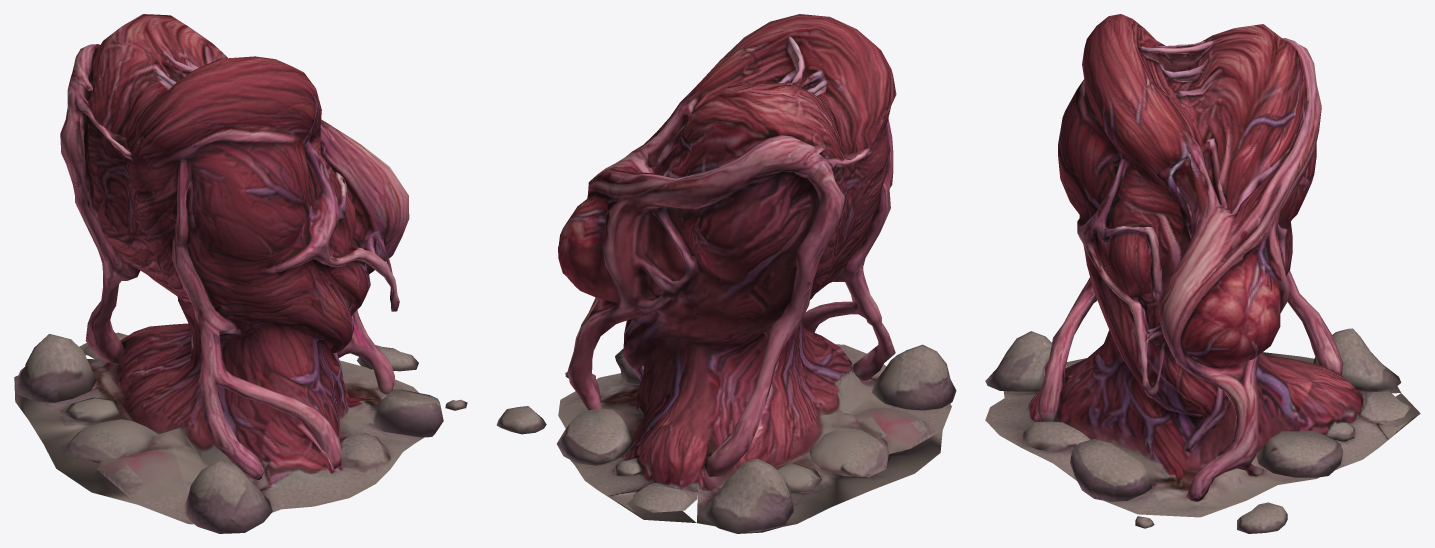
The model's file is organic3.fbx.
3 renders of one model, left to right at view 1: azimuth 30°, elevation 25°; view 2: azimuth 150°, elevation 25°; view 3: azimuth 270°, elevation 25°, orthographic. The views are drawn at different scales.
Visible parts, largest first — view 1: tripo_node_11bd1eb4.001; view 2: tripo_node_11bd1eb4.001; view 3: tripo_node_11bd1eb4.001.
Part boxes in pixels (<box>): tripo_node_11bd1eb4.001: <box>14,14,467,533</box>; tripo_node_11bd1eb4.001: <box>496,14,956,533</box>; tripo_node_11bd1eb4.001: <box>985,14,1420,533</box>.
Bounding box in the file's own units: 0.6875 × 0.6992 × 0.7031.
